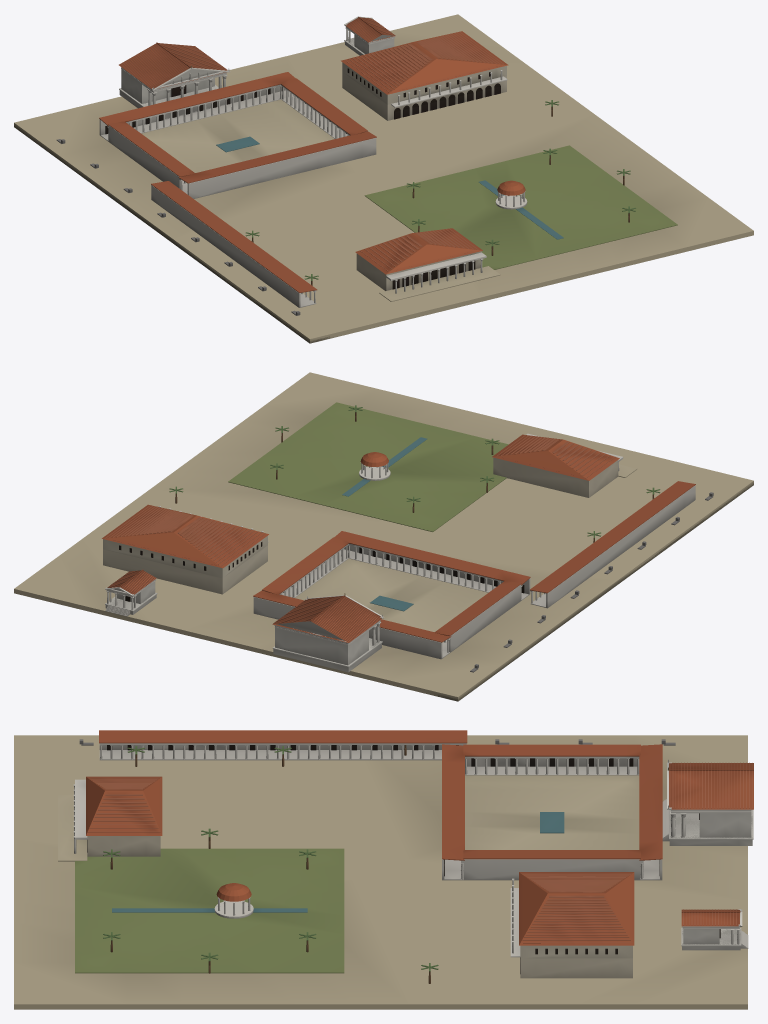
File: royal-palaces.glb
The picture shows the model from 3 angles, top to bottom: view 1: azimuth 30°, elevation 25°; view 2: azimuth 150°, elevation 25°; view 3: azimuth 270°, elevation 25°; orthographic projection. The views are drawn at different scales.
Visible parts, largest first — view 1: p0_terraces, p1_palaces, p2_trees; view 2: p0_terraces, p1_palaces, p2_trees; view 3: p0_terraces, p1_palaces, p2_trees.
Boxes of the visible parts, bbox=[...] form: p0_terraces: bbox=[14, 14, 753, 343]; p1_palaces: bbox=[56, 62, 507, 315]; p2_trees: bbox=[119, 16, 635, 284]; p0_terraces: bbox=[14, 372, 753, 701]; p1_palaces: bbox=[103, 433, 713, 672]; p2_trees: bbox=[102, 405, 660, 672]; p0_terraces: bbox=[14, 735, 747, 1009]; p1_palaces: bbox=[58, 730, 675, 978]; p2_trees: bbox=[86, 745, 753, 975].
Size of the model in its own units: 260 by 27.84 by 302.
